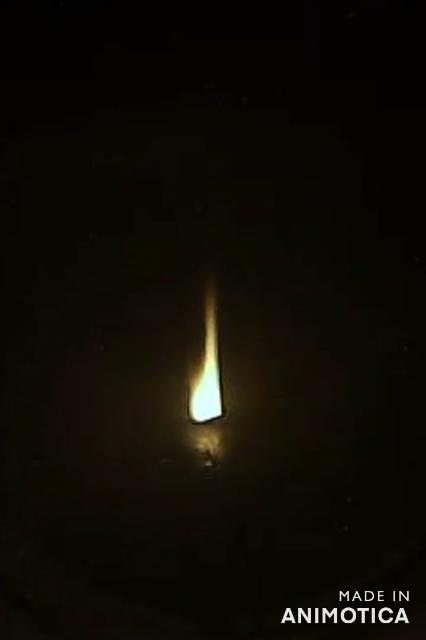burner flame: (186, 286, 226, 426)
